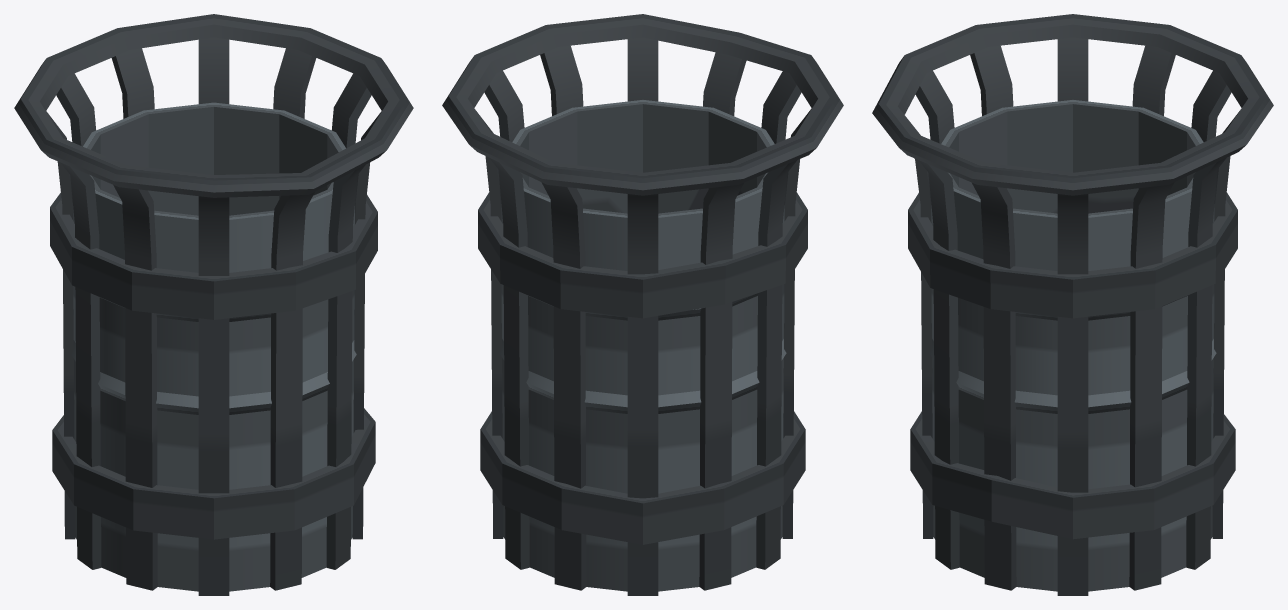
File: SM_Prop_Bin_03.fbx
The picture shows the model from 3 angles, left to right: view 1: azimuth 30°, elevation 25°; view 2: azimuth 150°, elevation 25°; view 3: azimuth 270°, elevation 25°; orthographic projection.
Visible parts, largest first — view 1: SM_Prop_Bin_03; view 2: SM_Prop_Bin_03; view 3: SM_Prop_Bin_03.
Part boxes in pixels (<box>): SM_Prop_Bin_03: <box>14,14,413,595</box>; SM_Prop_Bin_03: <box>442,14,843,595</box>; SM_Prop_Bin_03: <box>872,14,1273,595</box>.
Size of the model in its own units: 77.98 by 94.33 by 77.98.
